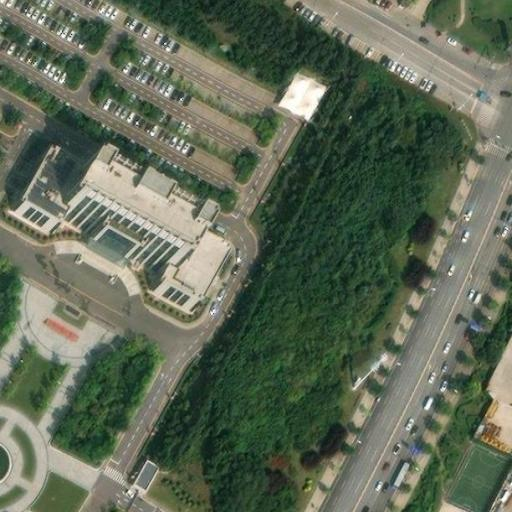building: (60, 151, 202, 263), (156, 217, 233, 295), (19, 133, 86, 216), (272, 65, 329, 122), (481, 332, 512, 406), (126, 454, 161, 493), (124, 494, 156, 512)
